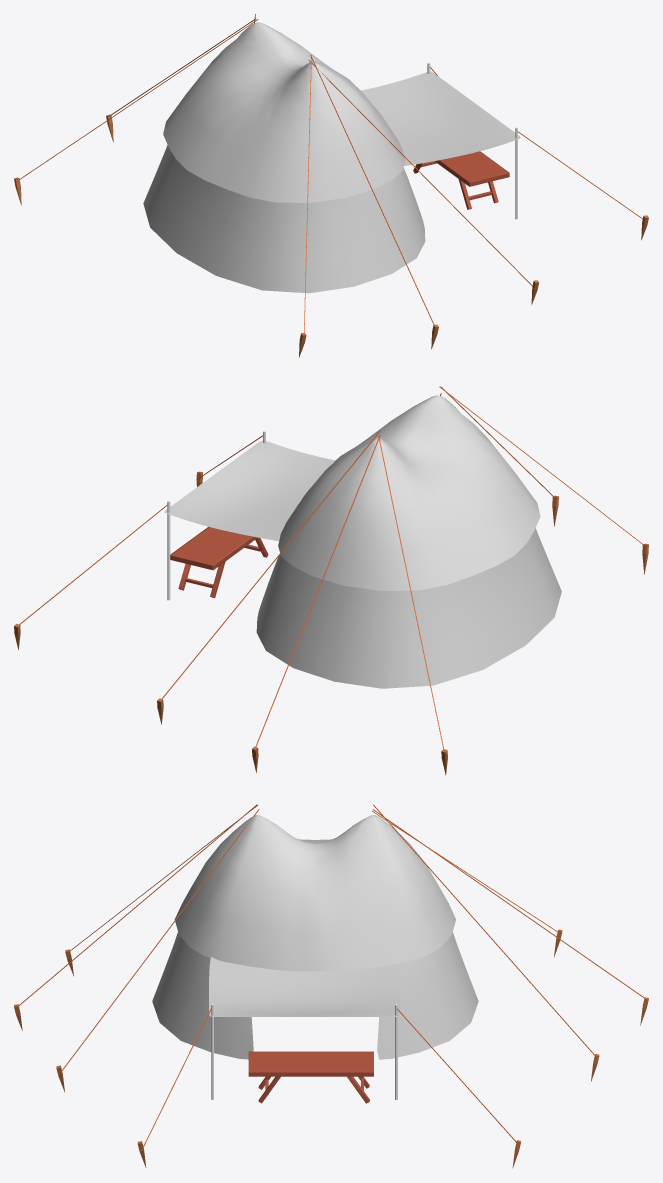
The model's file is recruitmentTent.fbx.
3 views of the same model, one above another, from view 1: azimuth 30°, elevation 25°; view 2: azimuth 150°, elevation 25°; view 3: azimuth 270°, elevation 25° (orthographic). The views are drawn at different scales.
Visible parts, largest first — view 1: TentBody; view 2: TentBody; view 3: TentBody.
Boxes of the visible parts, x1,y1,x2,y2 form: TentBody: [14, 14, 648, 357]; TentBody: [14, 386, 648, 775]; TentBody: [14, 804, 648, 1168].
Bounding box in the file's own units: 4272 × 2071 × 5217.
